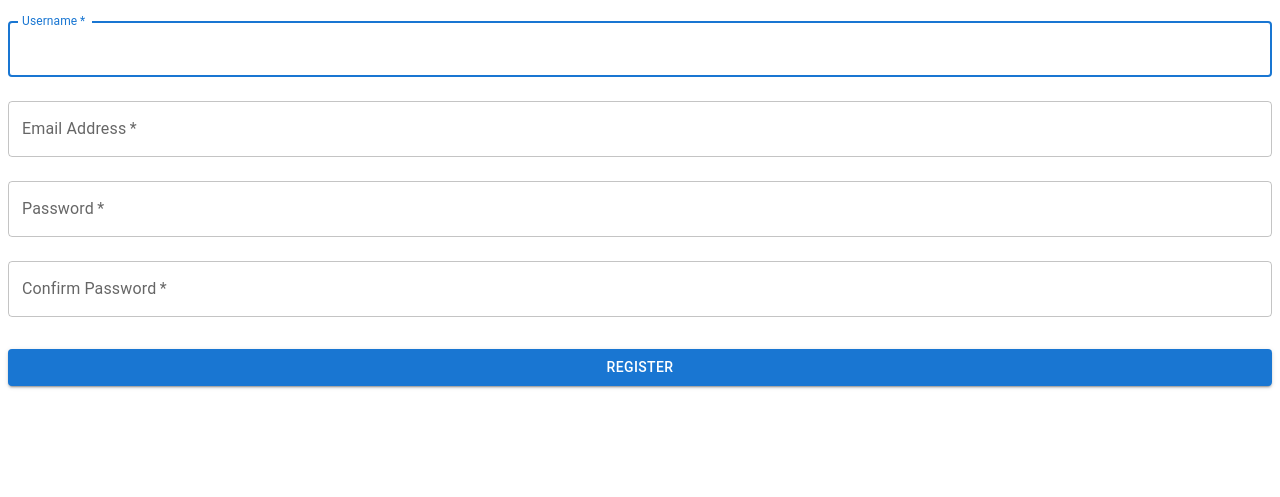
Test case: RegistrationForm › displays validation errors for empty fields on submit
The width and height of the screenshot is (1280, 497).
What coordinates should you click on to do the following:
click the button "Register"
I would click on:
 (640, 367)
Its box is [8,349,1272,386].
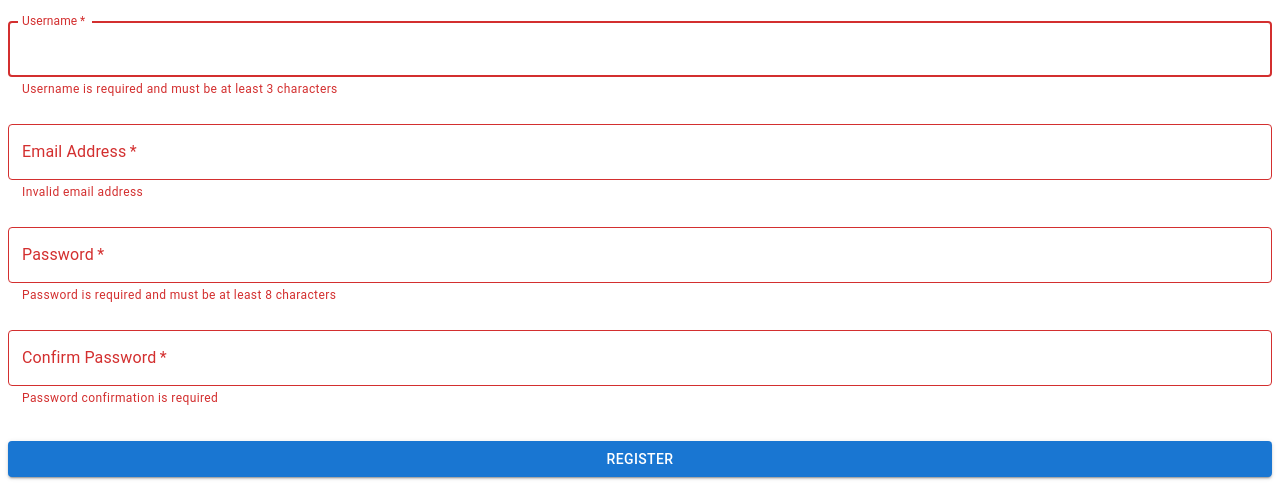
Now the text "Username is required and must be at least 3 characters" is shown, box [22,82,338,96]
Now the text "Invalid email address" is shown, box [22,185,143,199]
Now the text "Password is required and must be at least 8 characters" is shown, box [22,288,336,302]
